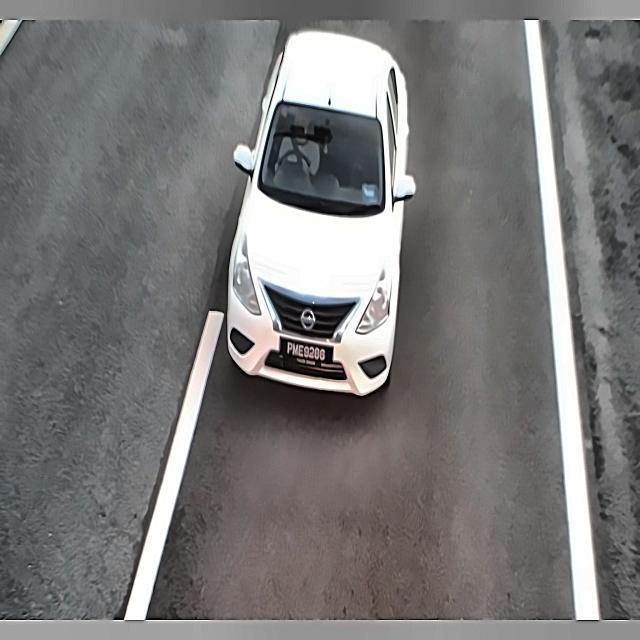car: (276, 329, 336, 373)
